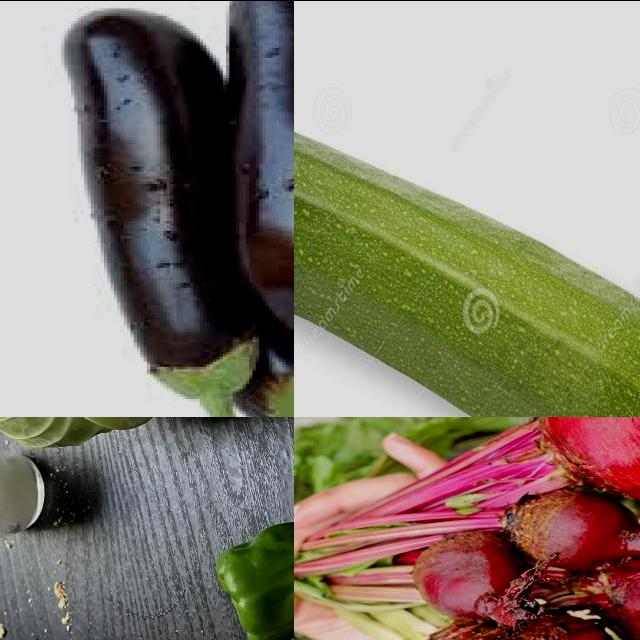beet: (515, 490, 640, 569), (417, 531, 515, 613)
eggplant: (62, 13, 256, 386), (227, 1, 295, 335)
zucchini: (295, 134, 640, 417)
